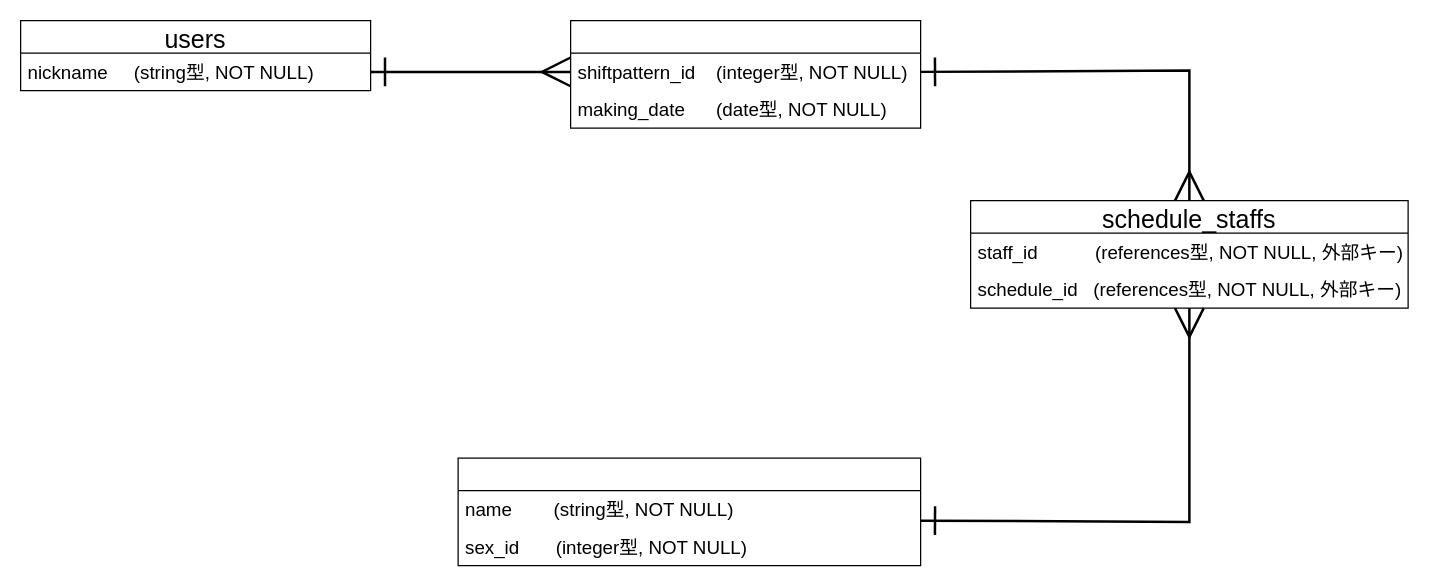
Some shapes in this 1429 by 586 pixel diagram are drawn without their labels. The shapes that lost their labels are listed below. From the top down, each one's box as (x1, y1, x2, y2) in pixels, then its label:
(569, 19, 921, 128): schedules
(457, 457, 921, 566): staffs
